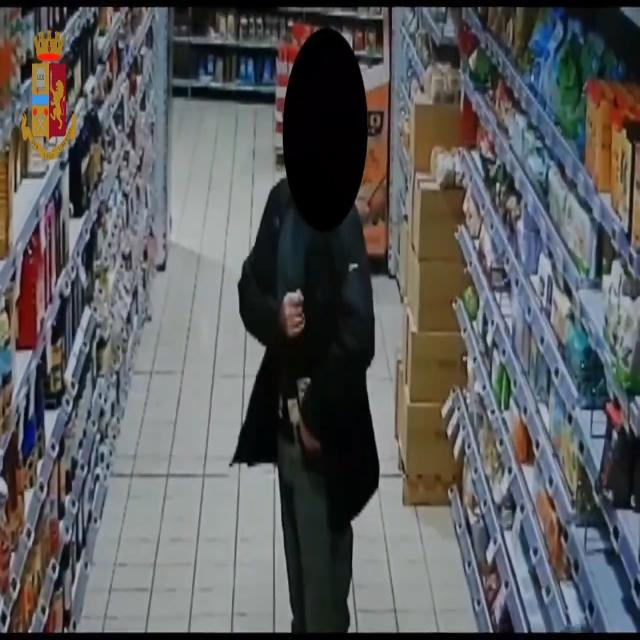persone: (233, 142, 399, 618)
